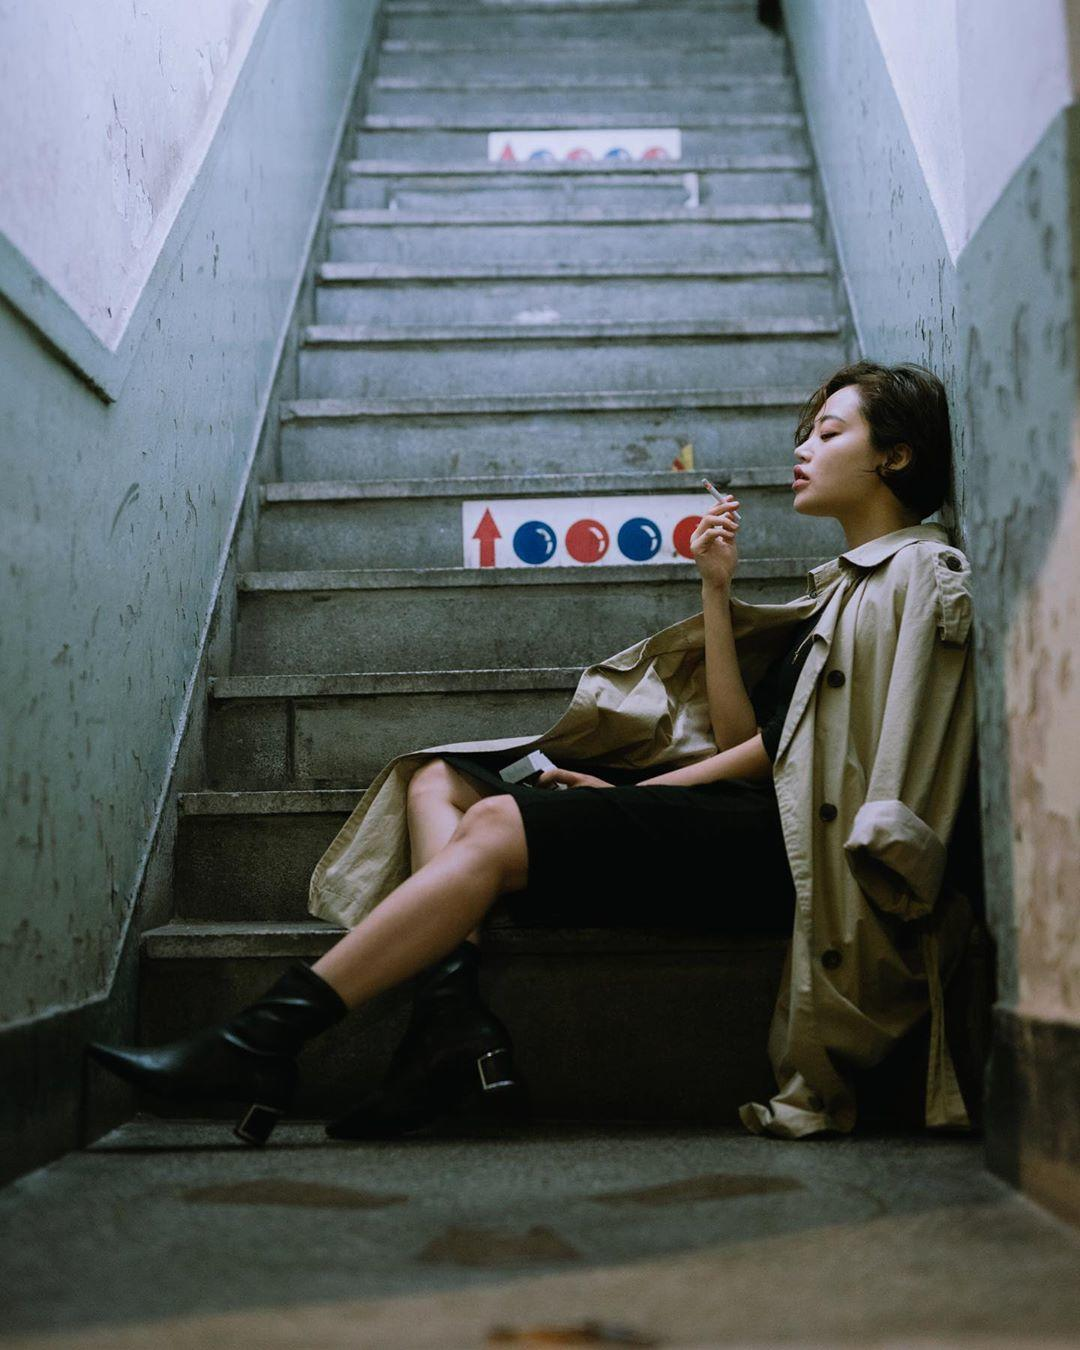cigarette: (701, 478, 743, 520)
